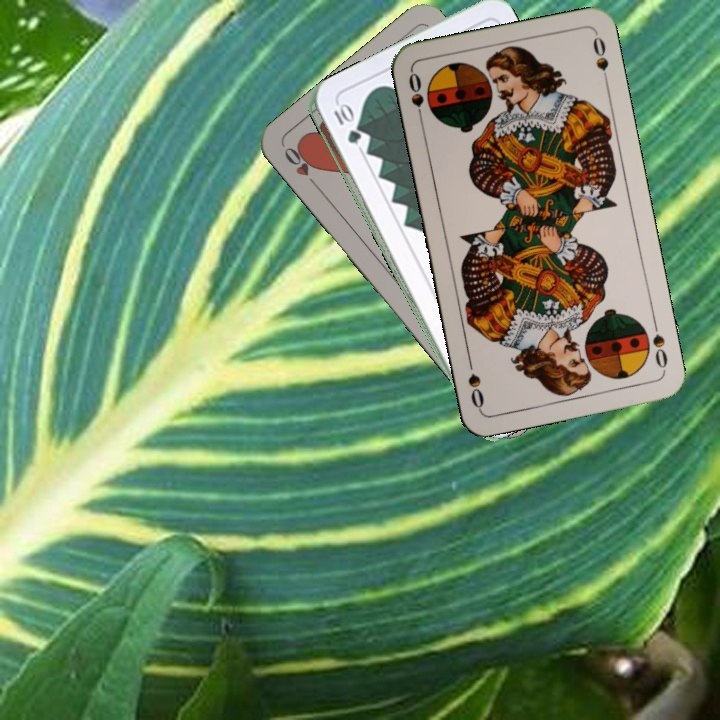G10: (329, 100, 361, 147)
HO: (280, 142, 322, 192)
SO: (404, 68, 427, 127), (648, 315, 670, 374)
